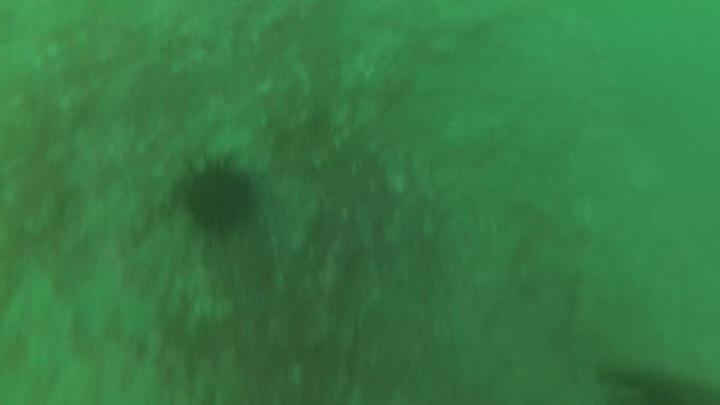echinus: (179, 160, 258, 237)
